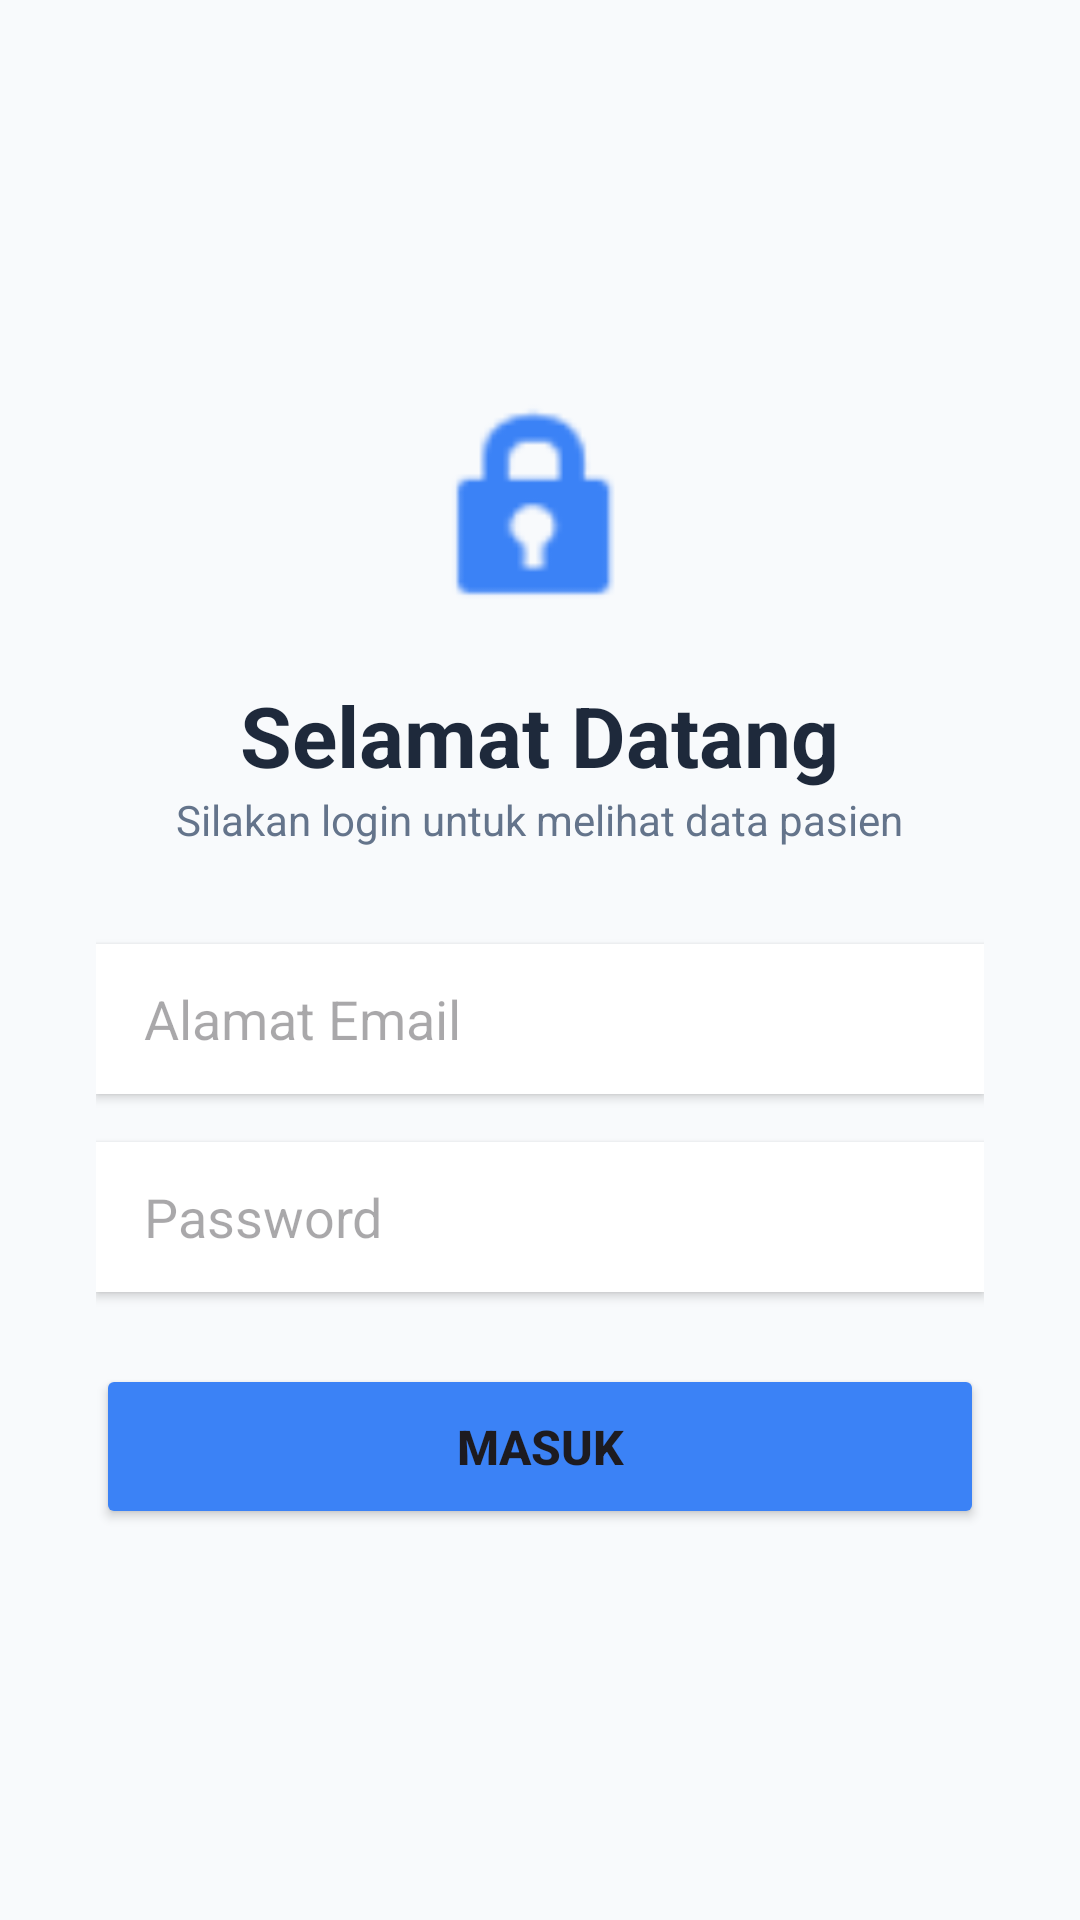

Screen size 1080*1920. Icon name, then its box in pixels as [x1=x1, y1=y1, x2=x2, y2=y2]:
lock idle: [x1=456, y1=411, x2=613, y2=595]
